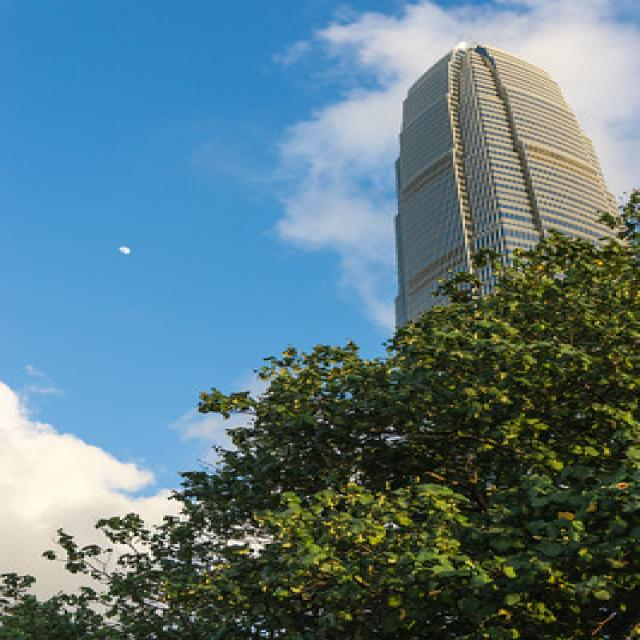building: (388, 33, 636, 394)
